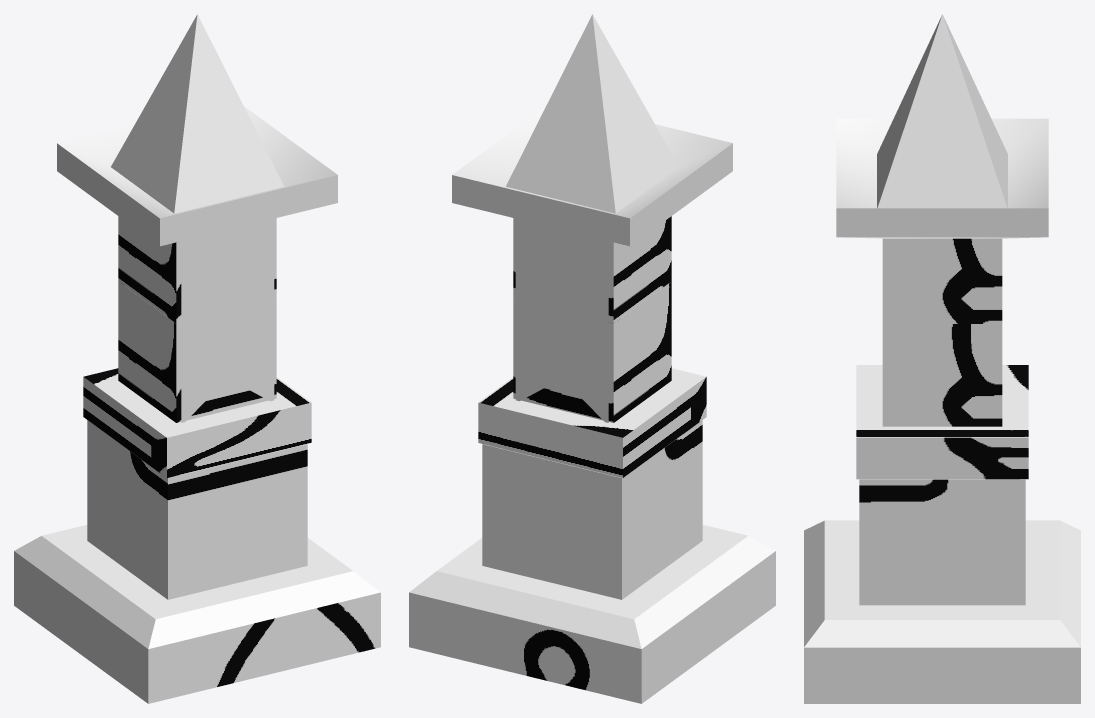
The model's file is Stone Bishop.fbx.
3 views of the same model, side by side, from view 1: azimuth 30°, elevation 25°; view 2: azimuth 150°, elevation 25°; view 3: azimuth 270°, elevation 25° (orthographic). The views are drawn at different scales.
Parts seen in each view (by area): view 1: Stone_Bishop; view 2: Stone_Bishop; view 3: Stone_Bishop.
Part boxes in pixels (<box>): Stone_Bishop: <box>14,14,380,703</box>; Stone_Bishop: <box>409,14,775,703</box>; Stone_Bishop: <box>804,14,1080,703</box>.
Size of the model in its own units: 1 by 2.52 by 1.
